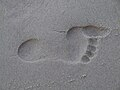human_footprint: (18, 25, 109, 63), (63, 25, 110, 63), (81, 25, 110, 63)
